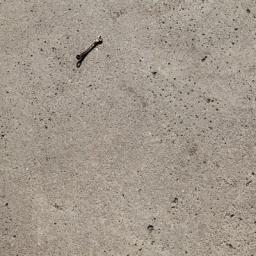FOD: (71, 32, 107, 73)
